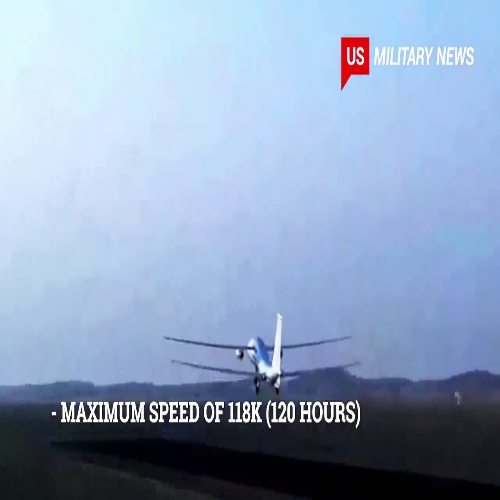uav705: (164, 313, 364, 395)
